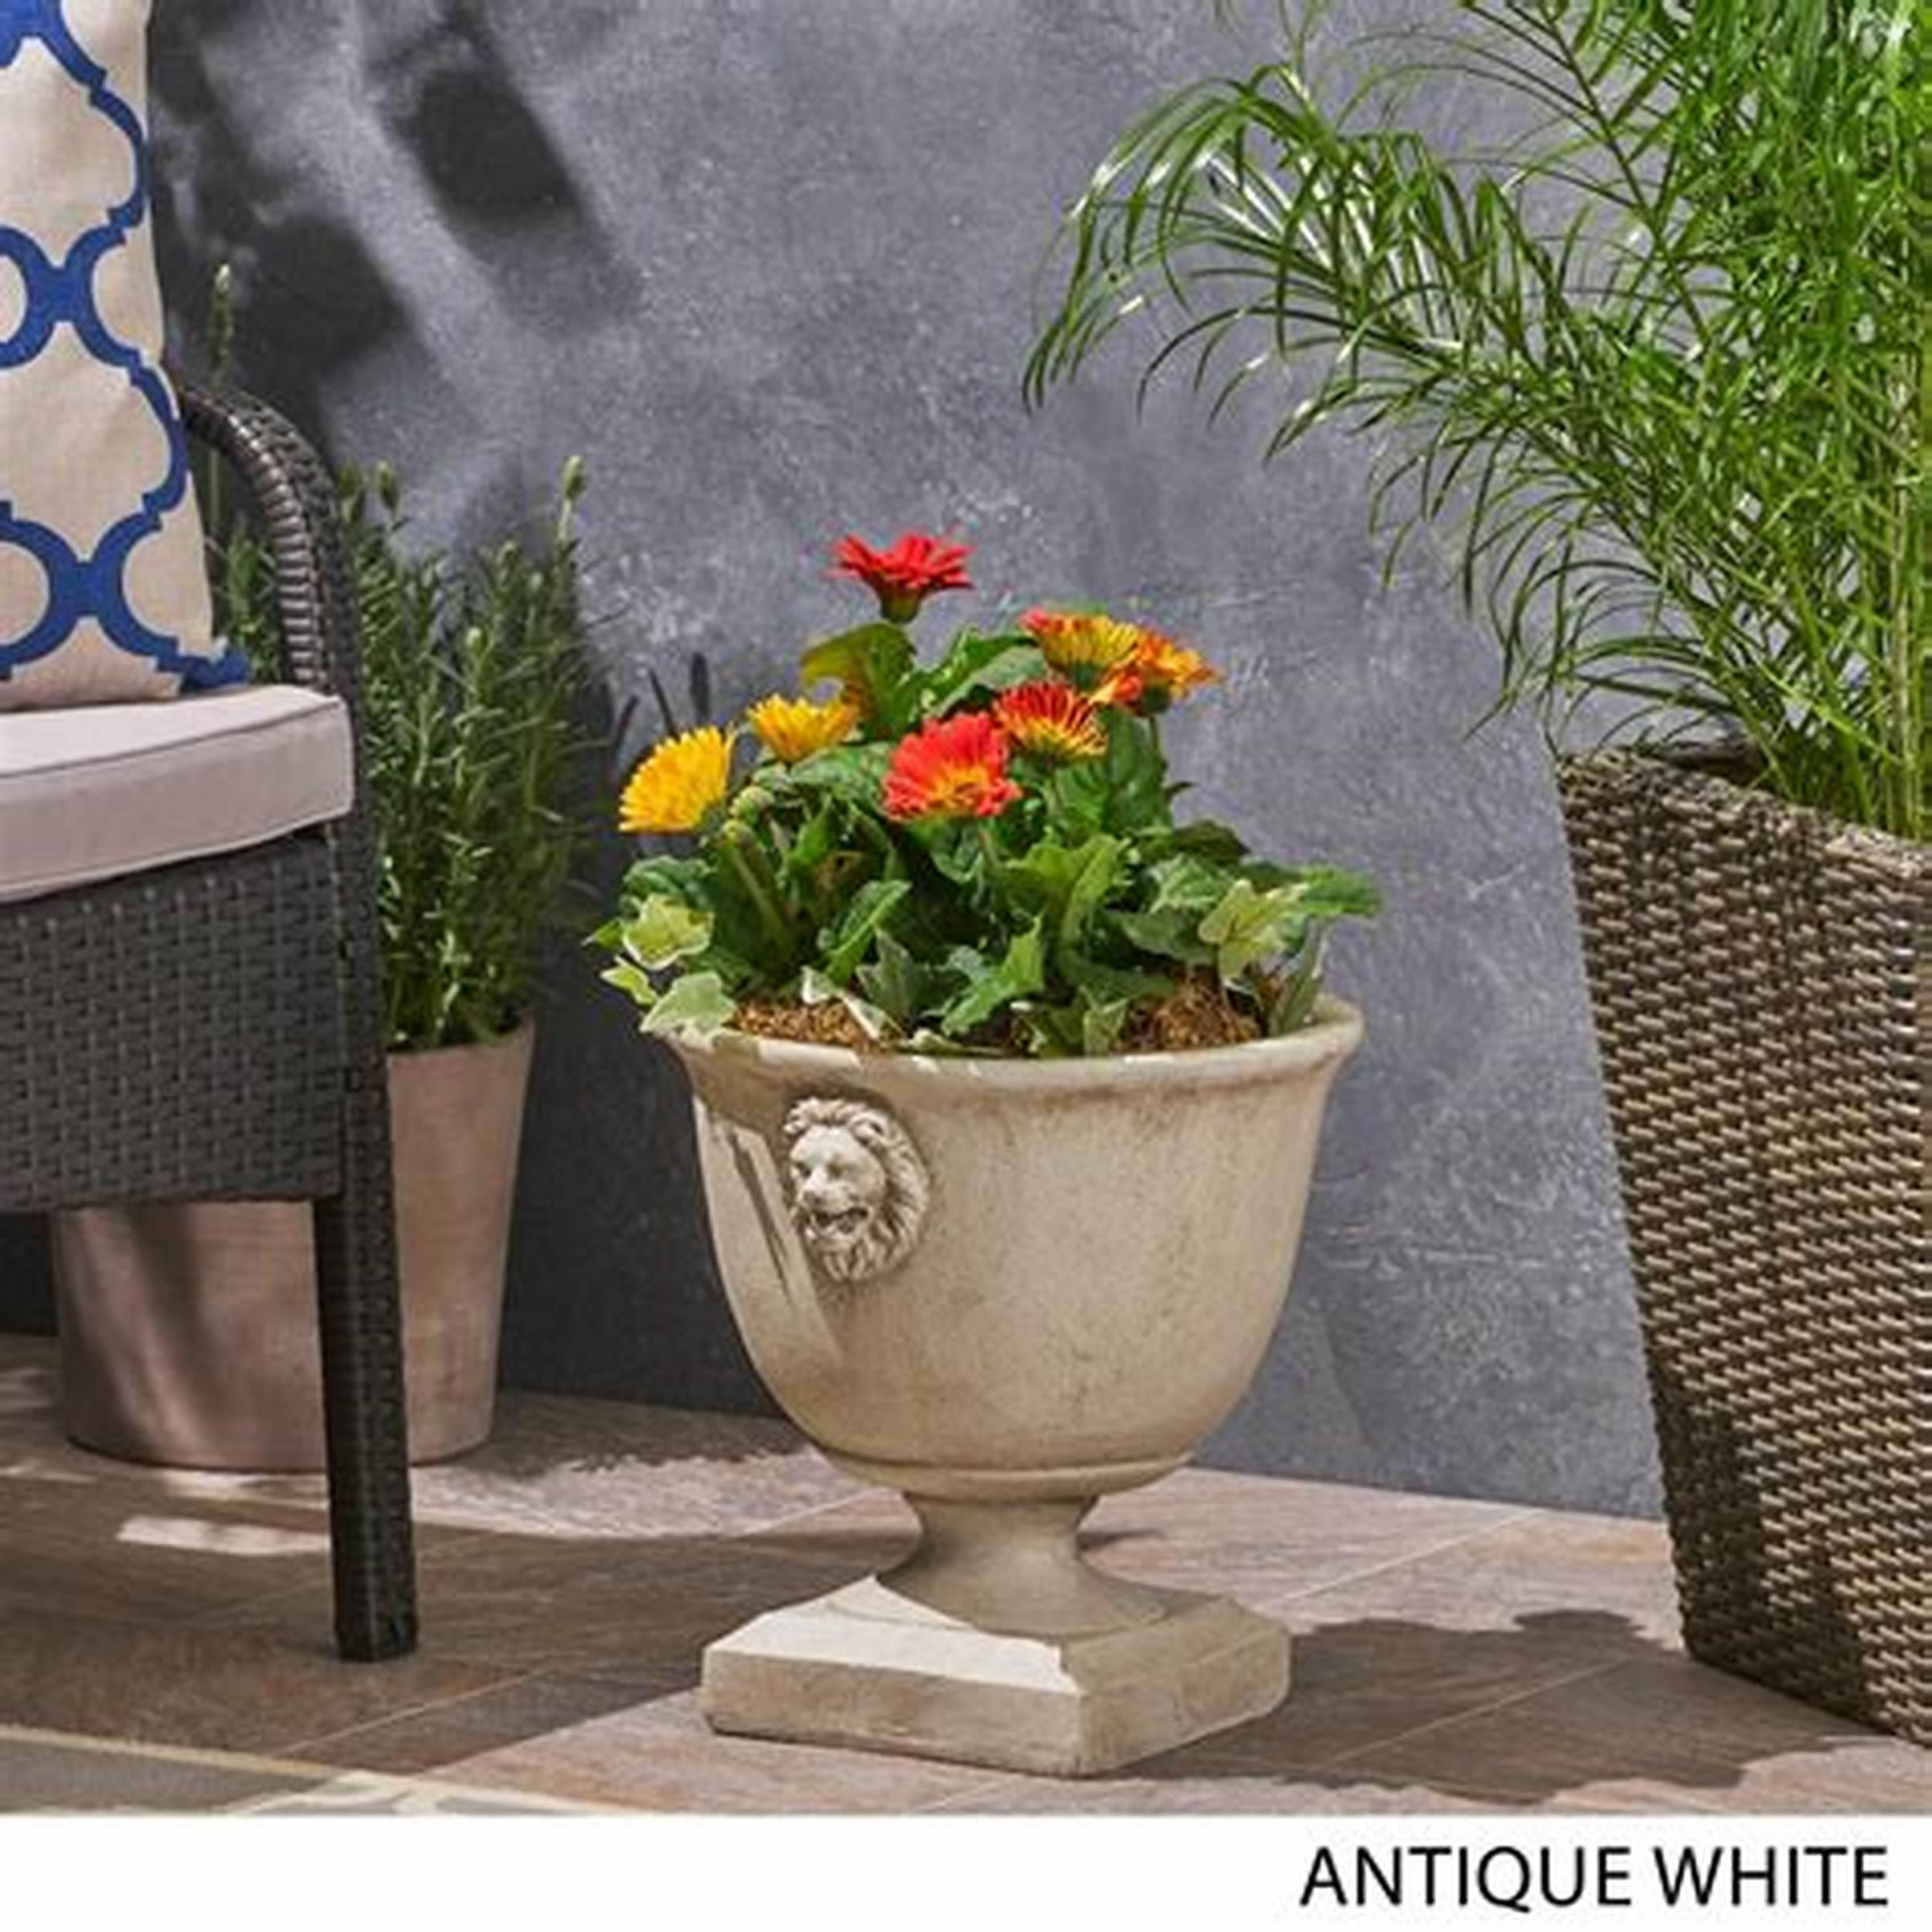flowerPot: (600, 939, 1399, 1792)
